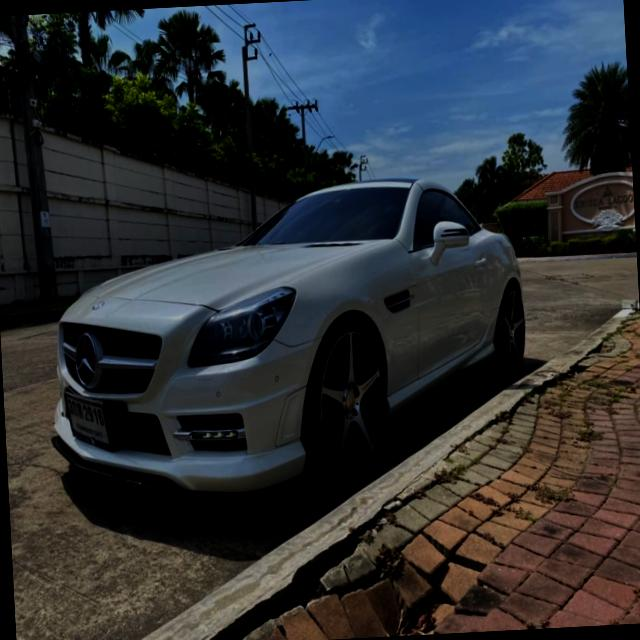license_plate: (63, 384, 116, 455)
